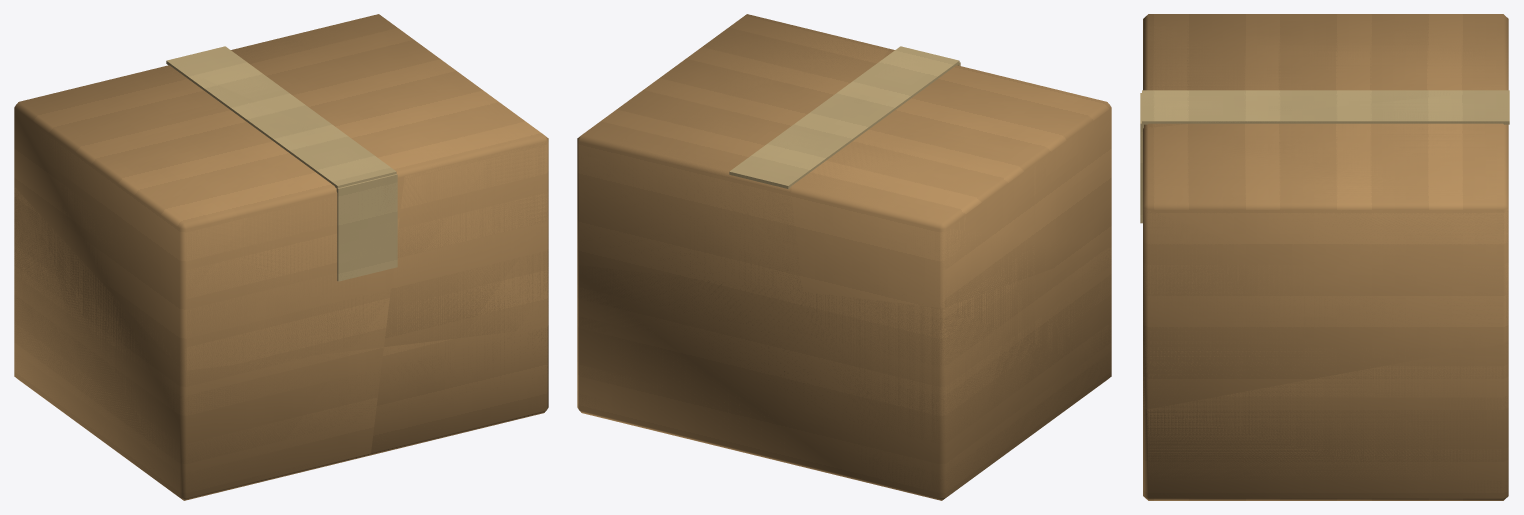
File: caixa_papelao.glb
The picture shows the model from 3 angles, left to right: view 1: azimuth 30°, elevation 25°; view 2: azimuth 150°, elevation 25°; view 3: azimuth 270°, elevation 25°; orthographic projection. The views are drawn at different scales.
Parts seen in each view (by area): view 1: Inteiro, Peca_03, Peca_00, Peca_01, Peca_02; view 2: Inteiro, Peca_00, Peca_03, Peca_01, Peca_02; view 3: Inteiro, Peca_03, Peca_02, Peca_01.
Boxes of the visible parts, left/top/right/bottom form: Inteiro: left=14, top=14, right=548, bottom=500; Peca_03: left=166, top=14, right=548, bottom=344; Peca_00: left=14, top=187, right=383, bottom=499; Peca_01: left=14, top=63, right=404, bottom=370; Peca_02: left=369, top=326, right=548, bottom=454; Inteiro: left=577, top=14, right=1111, bottom=500; Peca_00: left=803, top=247, right=1111, bottom=500; Peca_03: left=577, top=14, right=889, bottom=290; Peca_01: left=791, top=47, right=1111, bottom=307; Peca_02: left=577, top=264, right=811, bottom=452; Inteiro: left=1140, top=14, right=1509, bottom=500; Peca_03: left=1140, top=90, right=1509, bottom=408; Peca_02: left=1143, top=340, right=1508, bottom=498; Peca_01: left=1140, top=14, right=1508, bottom=199.
Size of the model in its own units: 0.5 by 0.363 by 0.404.
1 material, 1 textured.
